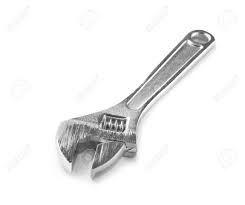wrench: (52, 28, 221, 182)
